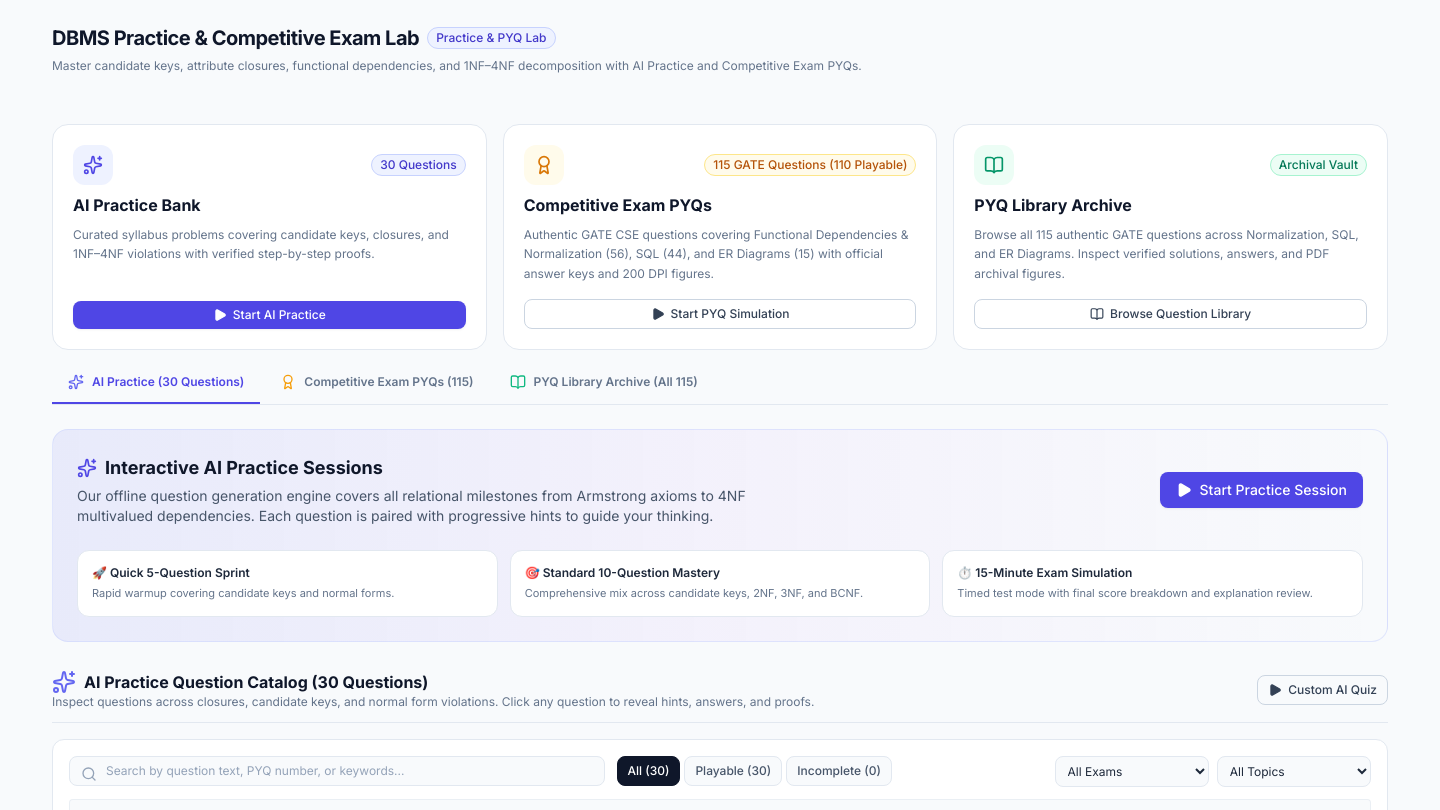
Test: PracticePage Component › opens config modal and launches a practice session
Click the button "Start AI Practice".
click(269, 315)  # box x1=73 y1=301 x2=466 y2=329
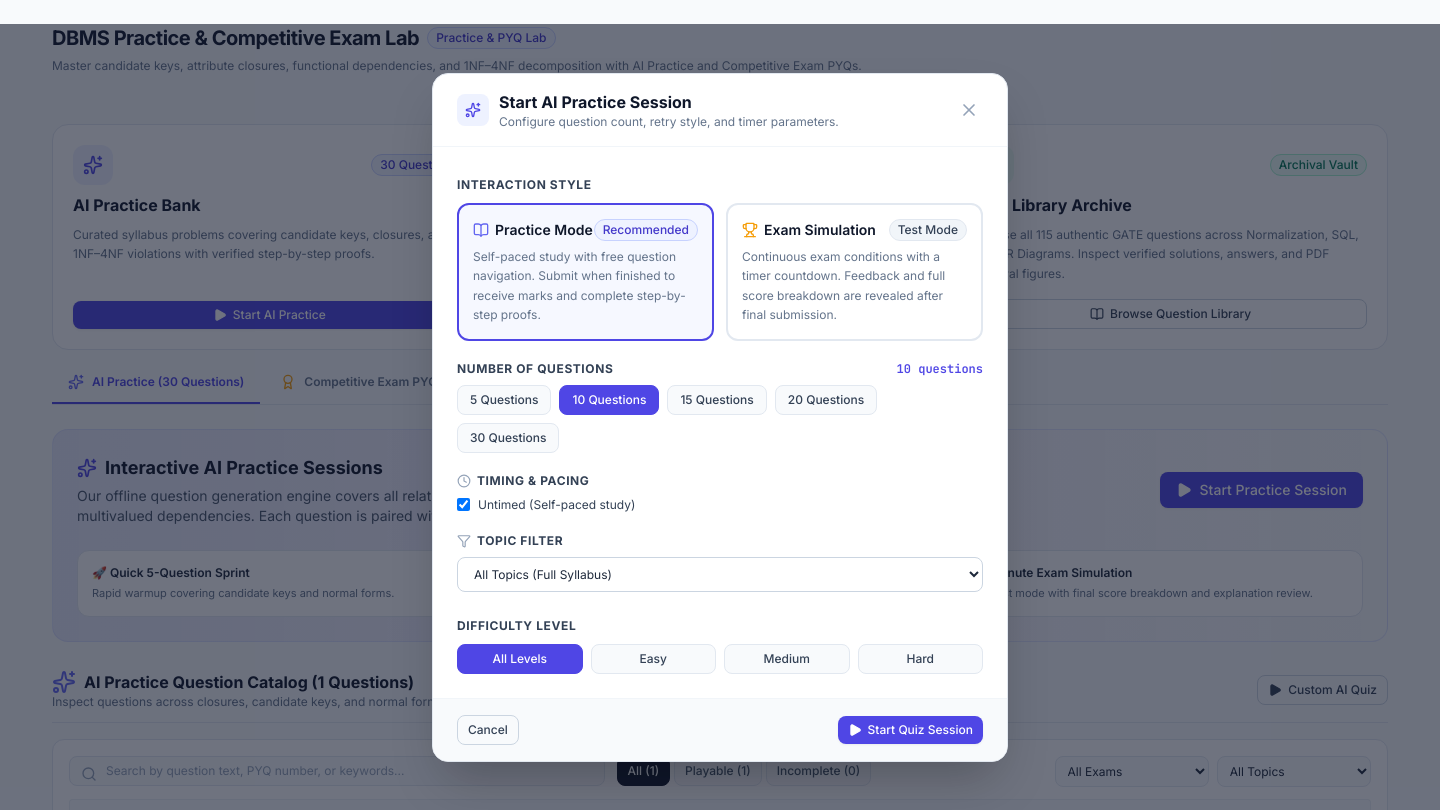
Now the heading "Start AI Practice Session" is shown, box x1=499 y1=92 x2=692 y2=112
Now the text "Interaction Style" is shown, box x1=457 y1=176 x2=592 y2=192
Click the button "Start Quiz Session".
click(910, 730)  # box x1=838 y1=716 x2=983 y2=744
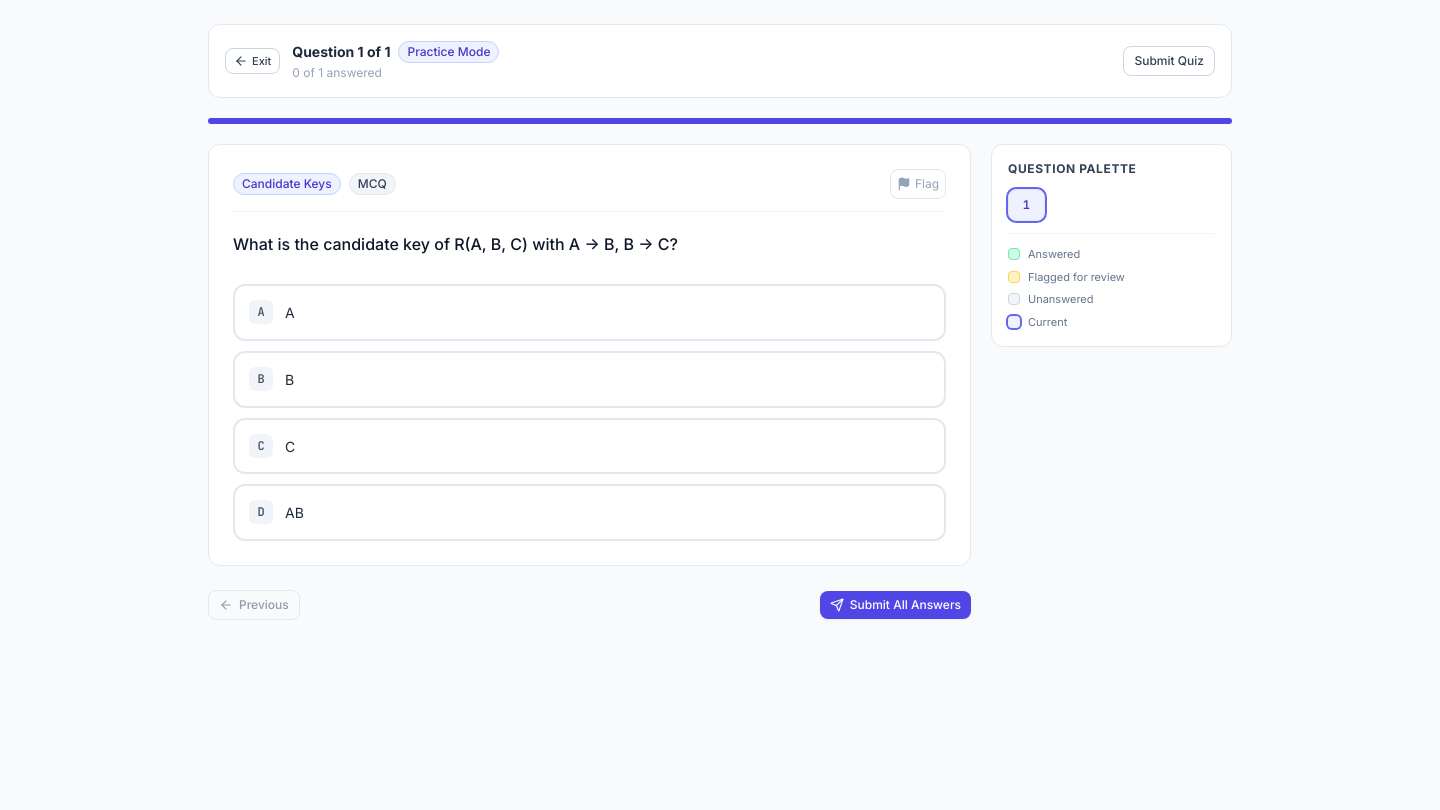
Now the text "What is the candidate key of R(A, B, C) with A -> B, B -> C?" is shown, box x1=233 y1=234 x2=678 y2=254
Now the text "Question 1 of 1" is shown, box x1=292 y1=42 x2=390 y2=62
